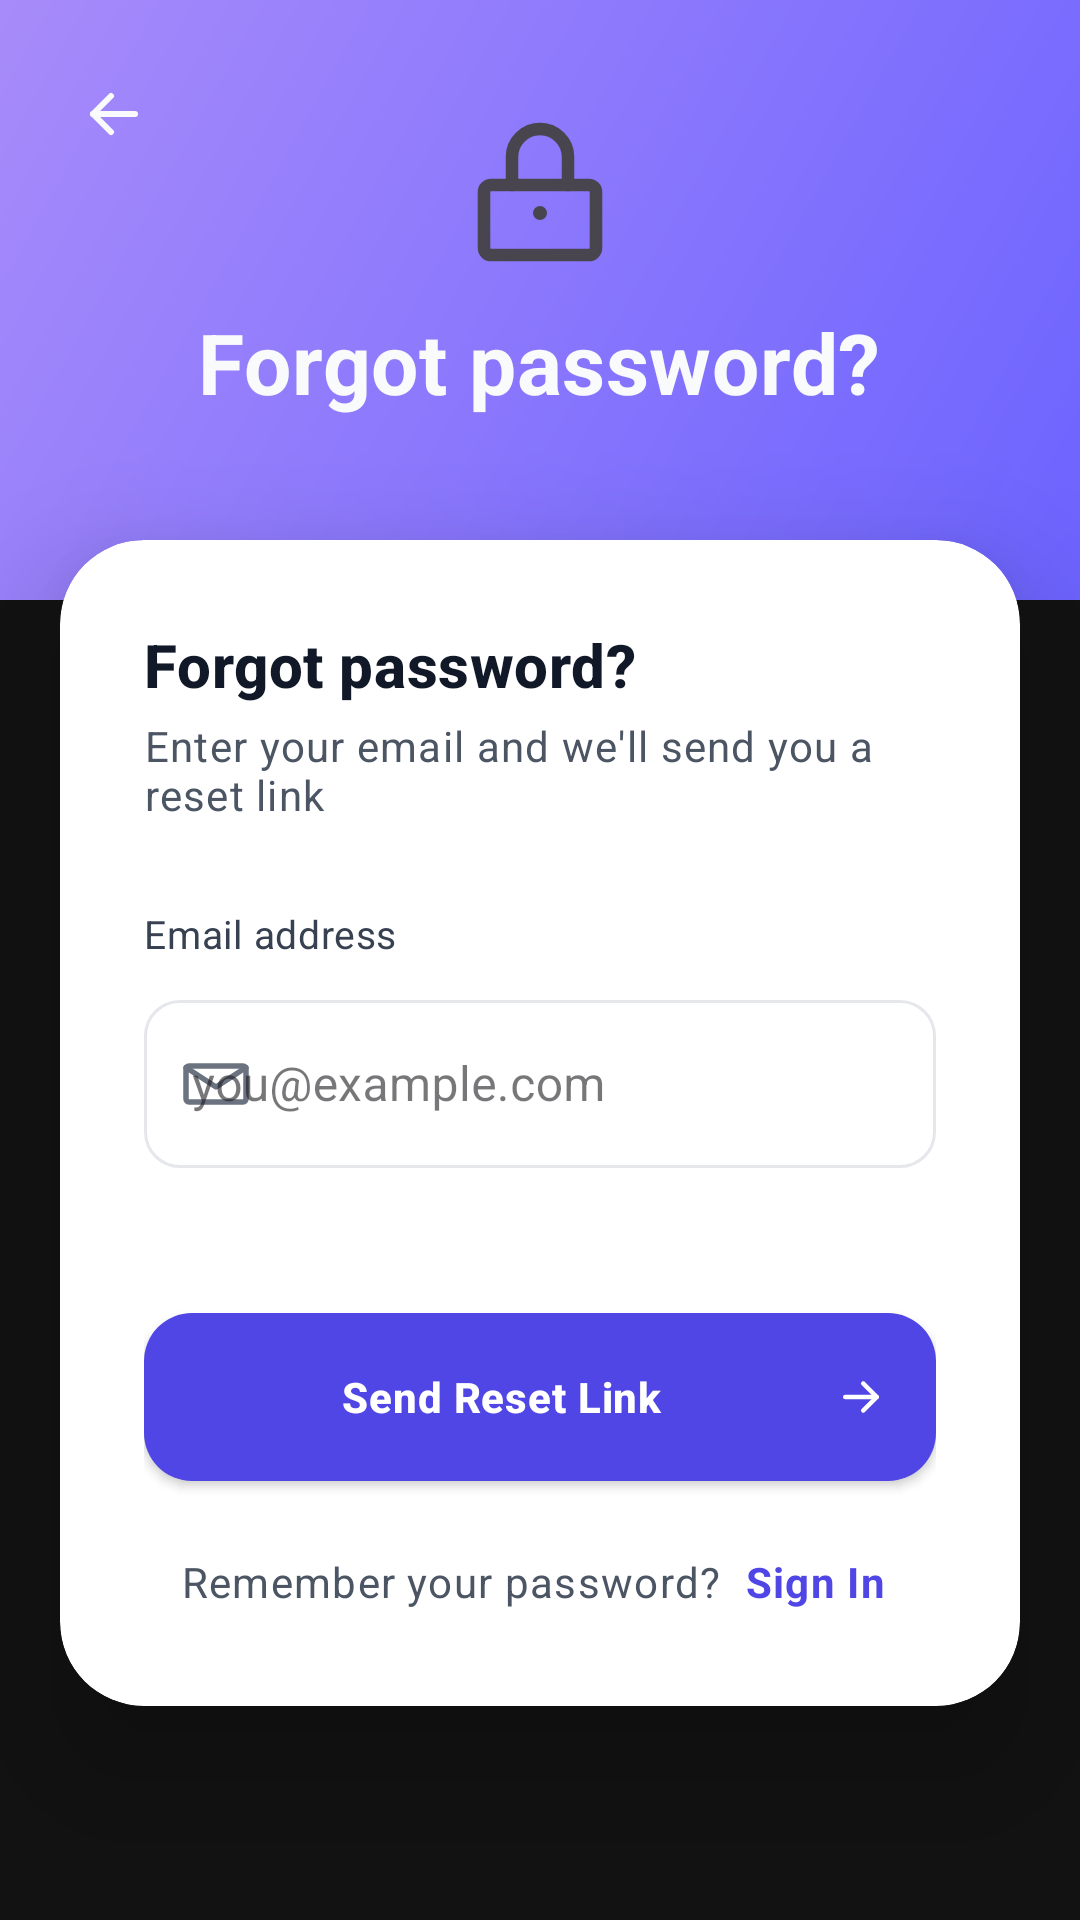

Where icons sit on this 1080px x 1920px app screen, as (x1, y1, x2, y2):
Back: (90, 93, 138, 135)
